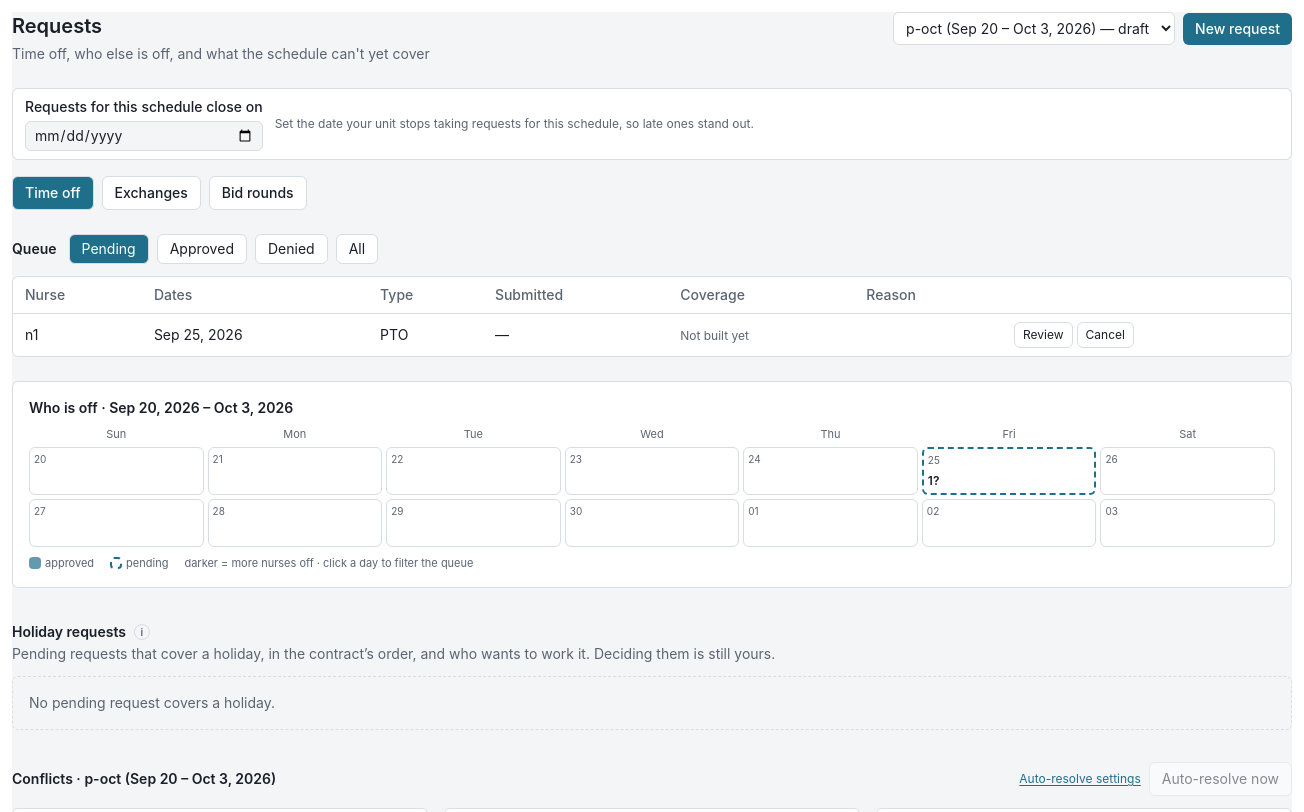
Test: the Requests page › forgets the picked day when the manager switches to another period
Click the button named "Sep 25" at {"x": 1009, "y": 470}, box [922,446,1096,494]
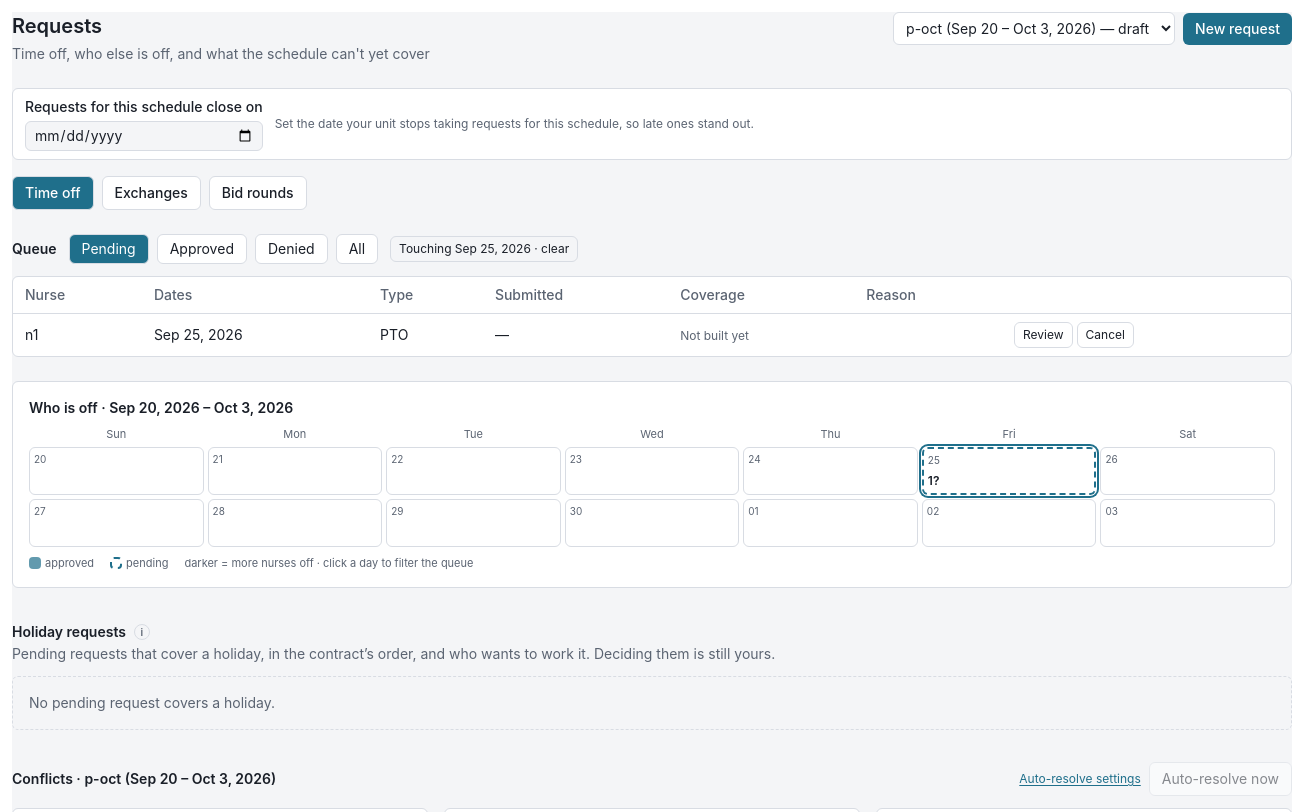
expect the button "Touching Sep 25, 2026 · clear" is shown: met, box [390,236,578,262]
Select "p-sep (Sep 6 – Sep 19, 2026)" in the dropdown named "Period" at {"x": 1034, "y": 28}, box [893,12,1175,45]
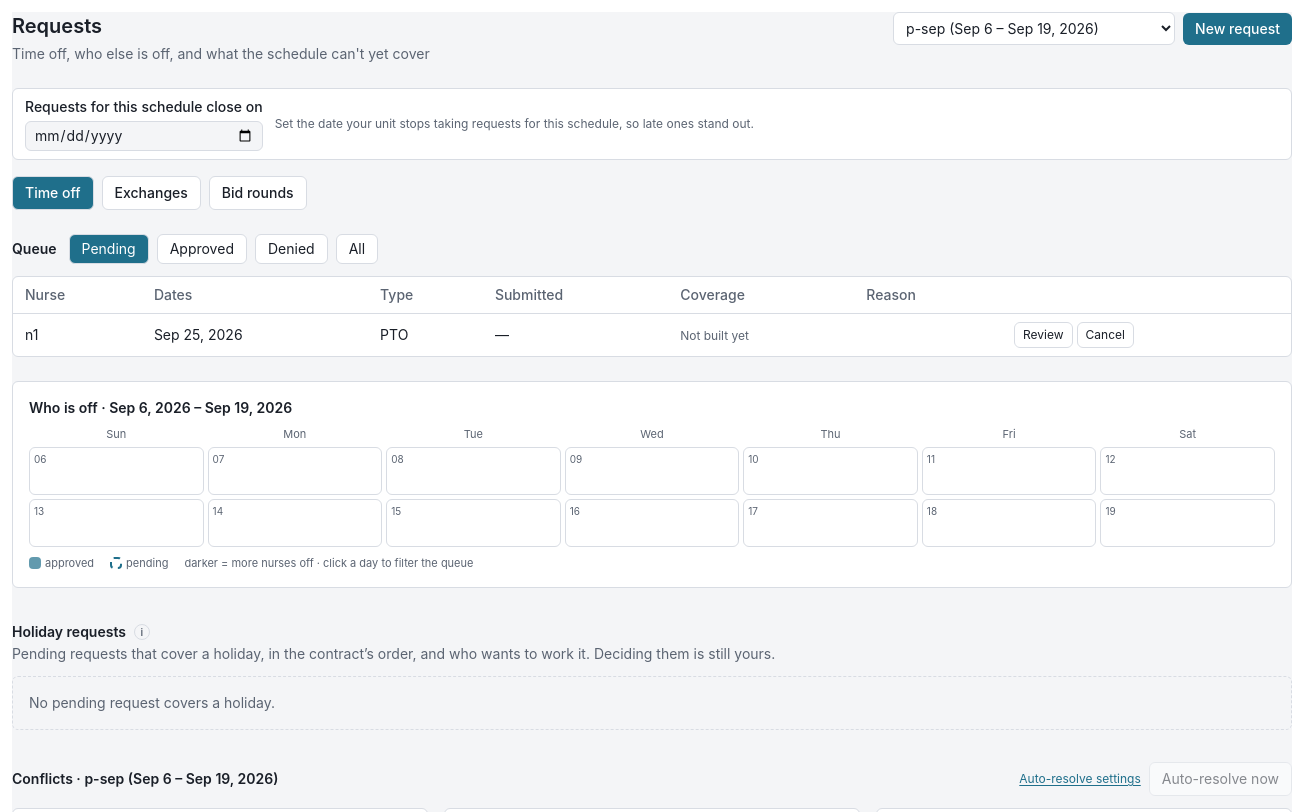
expect the button "Touching" is gone: met
